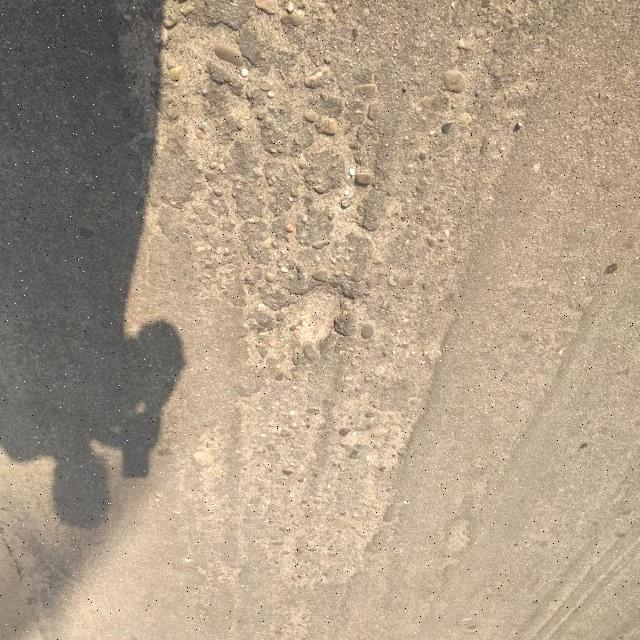Pothole: (273, 282, 350, 352)
